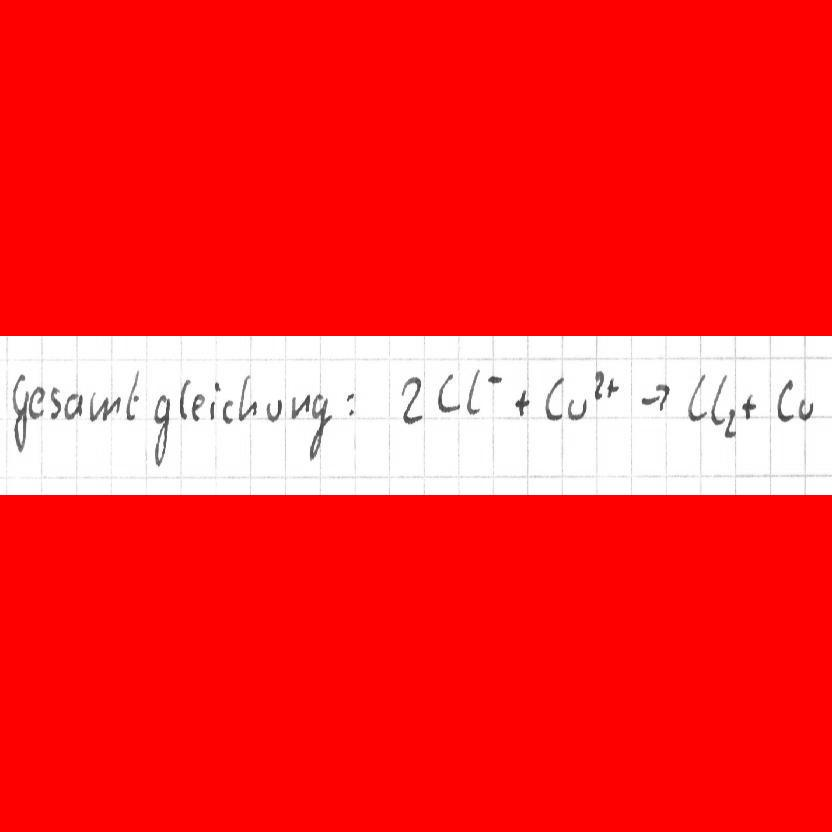Char: (307, 389, 335, 462), (147, 394, 173, 469), (10, 372, 28, 452), (399, 375, 427, 426), (87, 389, 123, 423), (435, 371, 463, 414), (686, 371, 709, 423), (708, 373, 730, 425), (543, 374, 567, 421), (637, 381, 671, 413), (238, 373, 258, 423), (775, 376, 796, 423), (124, 369, 142, 423), (465, 366, 484, 417), (288, 390, 312, 420), (63, 390, 83, 420), (177, 374, 190, 420), (28, 386, 45, 420), (513, 387, 531, 418), (567, 395, 589, 420), (796, 395, 817, 421), (263, 398, 284, 423), (342, 385, 357, 420), (48, 384, 63, 418), (740, 391, 757, 421), (209, 380, 221, 421), (591, 368, 606, 400), (190, 391, 205, 421), (724, 406, 738, 438), (484, 370, 504, 388), (222, 397, 235, 423), (604, 377, 618, 398)
